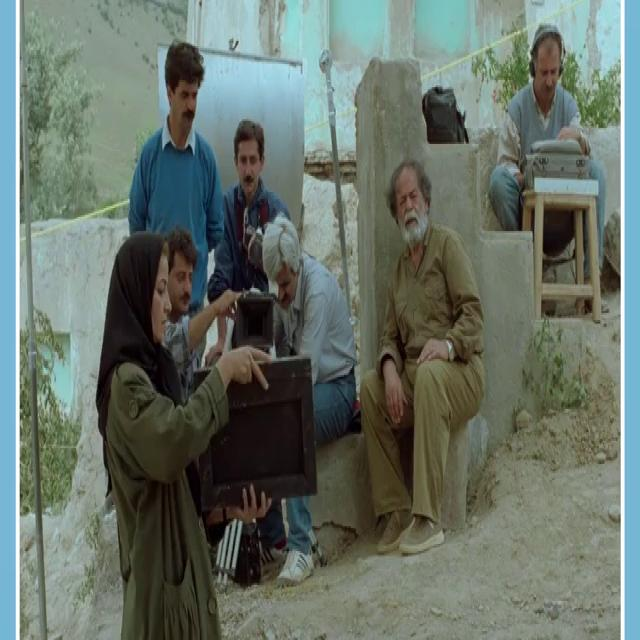Clapperboard: (192, 351, 322, 507)
